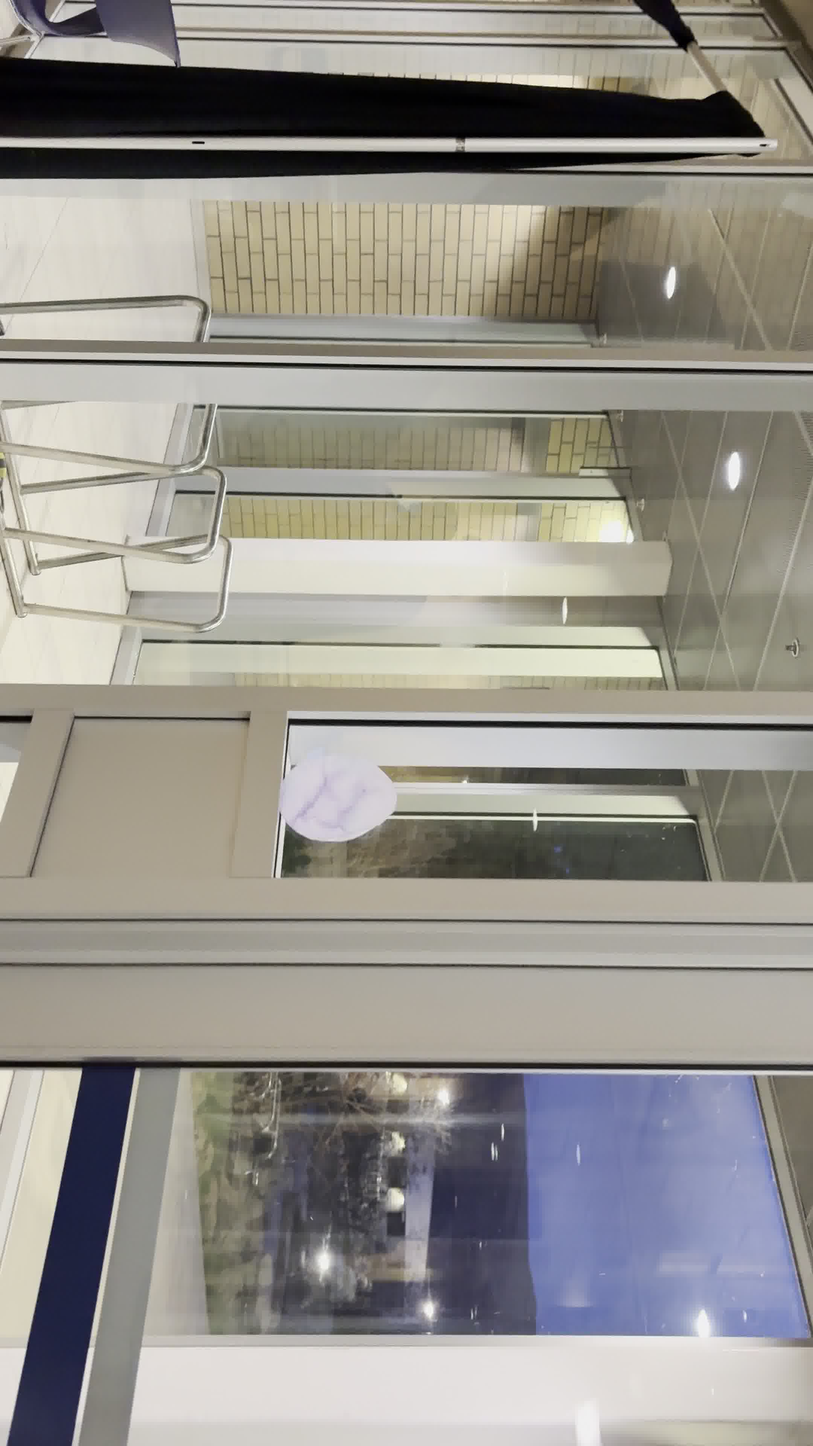Target: (277, 751, 399, 844)
